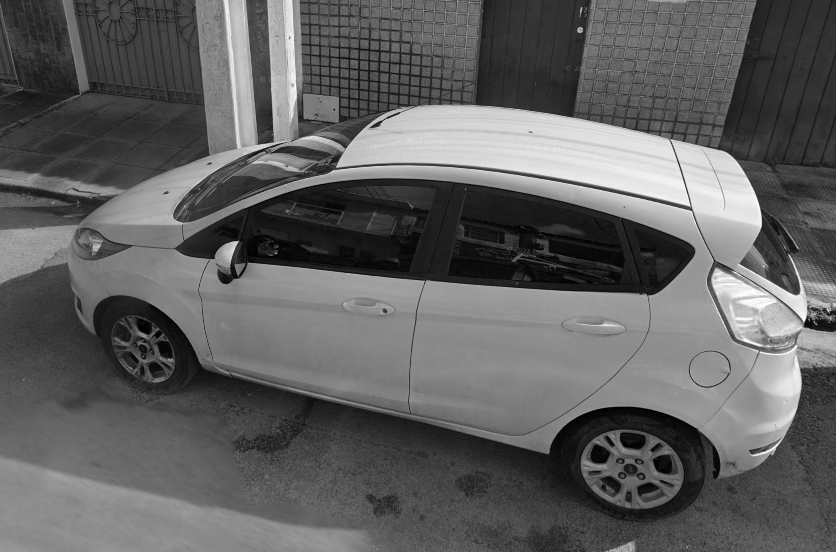car: (66, 96, 813, 533)
